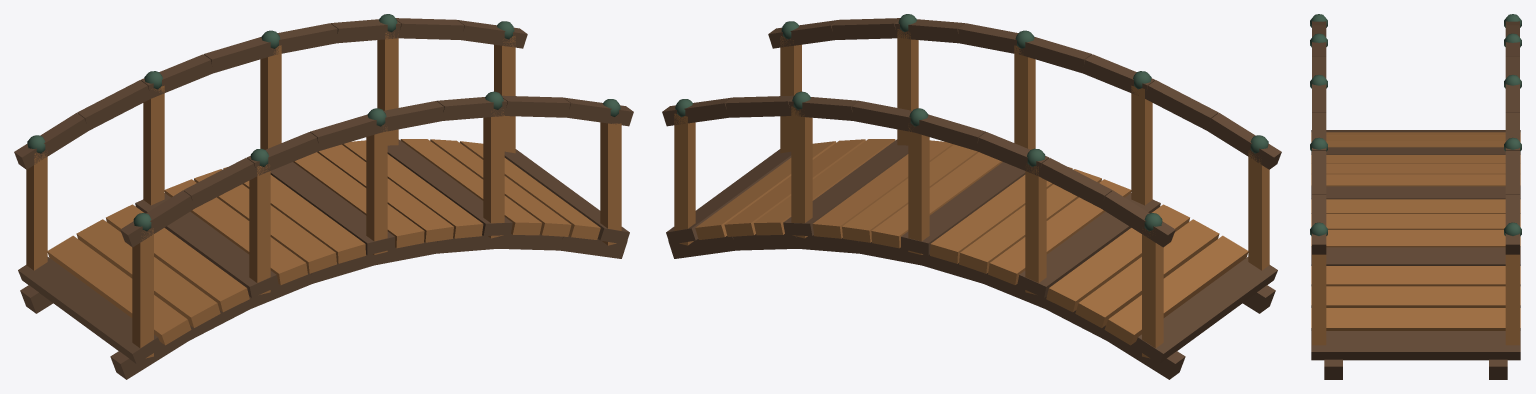
File: bridge.glb
3 renders of one model, left to right at view 1: azimuth 30°, elevation 25°; view 2: azimuth 150°, elevation 25°; view 3: azimuth 270°, elevation 25°, orthographic. The views are drawn at different scales.
Parts seen in each view (by area): view 1: MemoryGate_bridge; view 2: MemoryGate_bridge; view 3: MemoryGate_bridge.
Boxes of the visible parts, bbox=[...] form: MemoryGate_bridge: bbox=[14, 14, 633, 379]; MemoryGate_bridge: bbox=[662, 14, 1281, 379]; MemoryGate_bridge: bbox=[1310, 14, 1521, 379].
Bounding box in the file's own units: 2.43 × 0.9729 × 0.9618.
